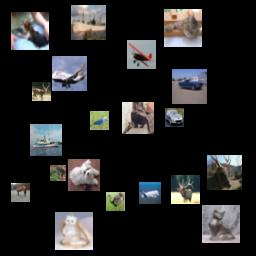airplane: (52, 56, 87, 91), (127, 40, 156, 69), (139, 182, 161, 204)
automobile: (172, 69, 207, 104), (165, 108, 184, 127)
bird: (106, 192, 125, 211), (90, 111, 109, 130)
cat: (55, 212, 93, 250), (164, 9, 202, 47), (202, 205, 240, 243), (122, 102, 154, 134)
deer: (207, 155, 242, 190), (171, 175, 200, 204), (32, 82, 51, 101)
dog: (11, 12, 49, 50), (68, 159, 100, 191)
frog: (50, 165, 66, 181)
ship: (71, 5, 106, 40), (30, 124, 62, 156)
